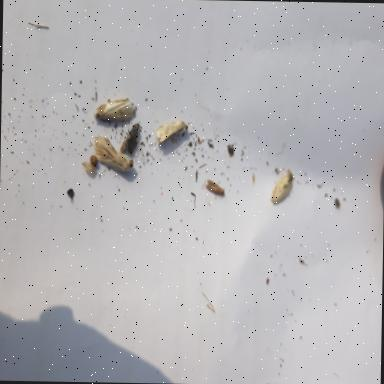pbw: (92, 133, 136, 172), (94, 91, 134, 128), (158, 116, 188, 146), (270, 169, 294, 206), (203, 176, 225, 196)
